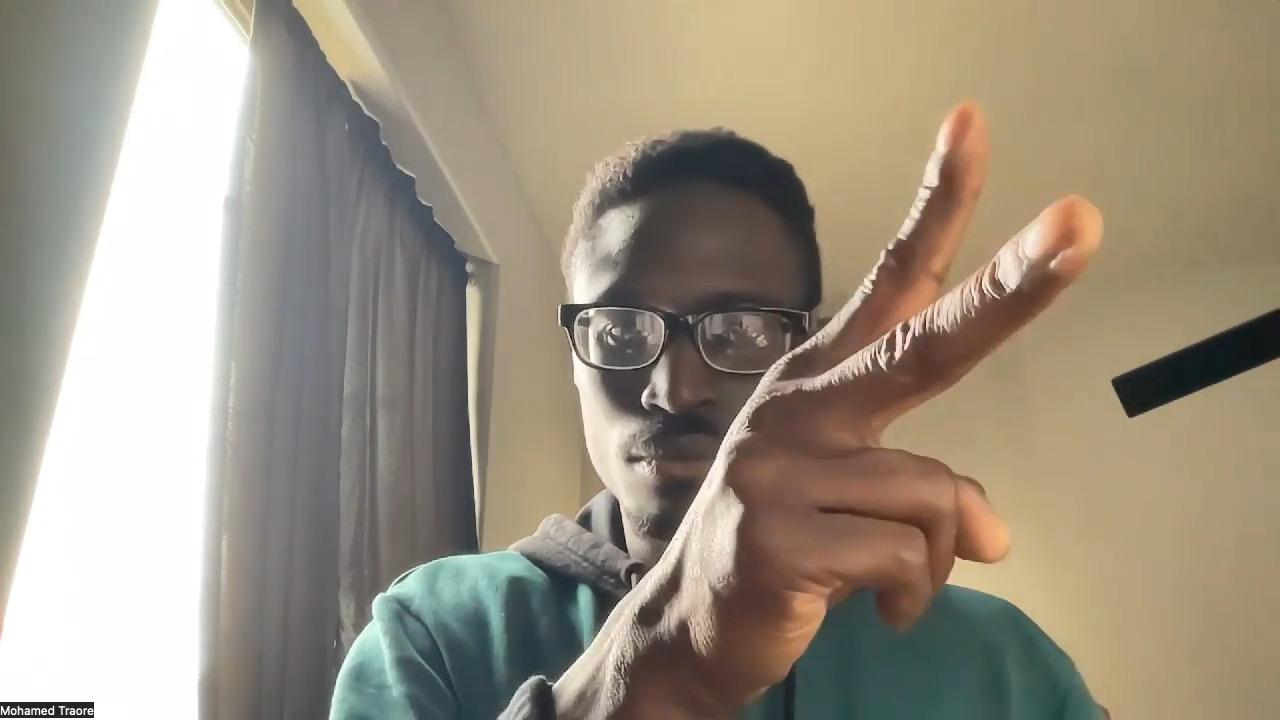Scissors: (668, 95, 1104, 690)
